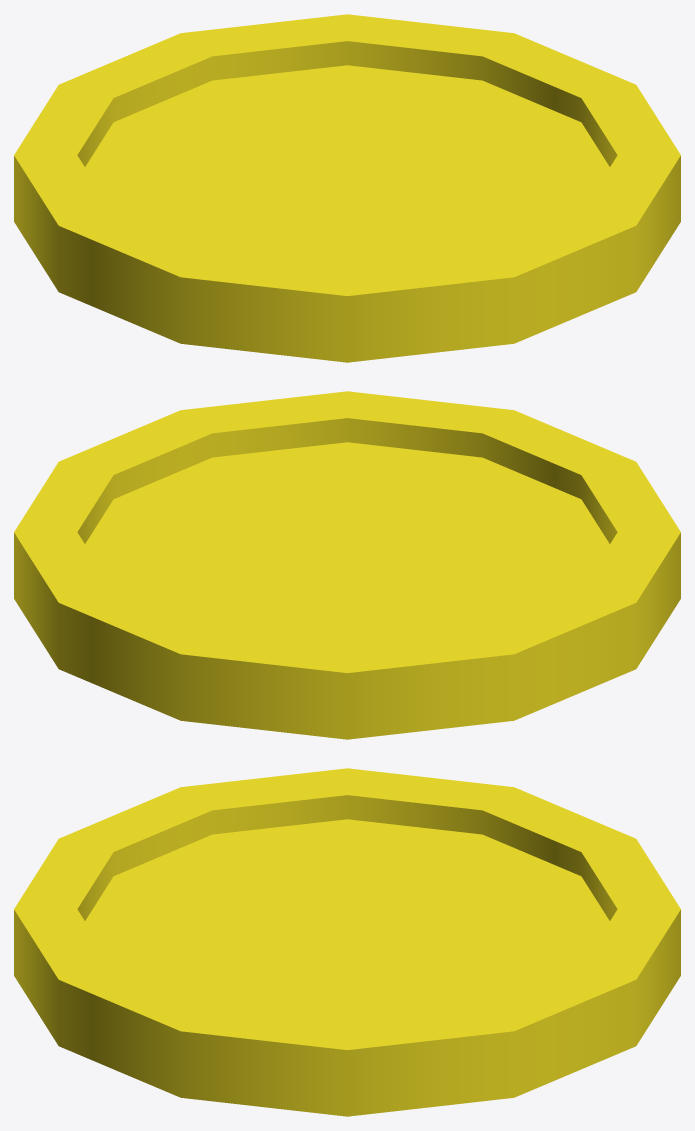
The model's file is coin.fbx.
3 renders of one model, top to bottom at view 1: azimuth 30°, elevation 25°; view 2: azimuth 150°, elevation 25°; view 3: azimuth 270°, elevation 25°, orthographic.
Parts seen in each view (by area): view 1: Cylindre; view 2: Cylindre; view 3: Cylindre.
Part boxes in pixels (x1,y1,x2,y2): Cylindre: (14,14,680,362); Cylindre: (14,391,680,739); Cylindre: (14,768,680,1116).
Bounding box in the file's own units: 100 × 11 × 100.
